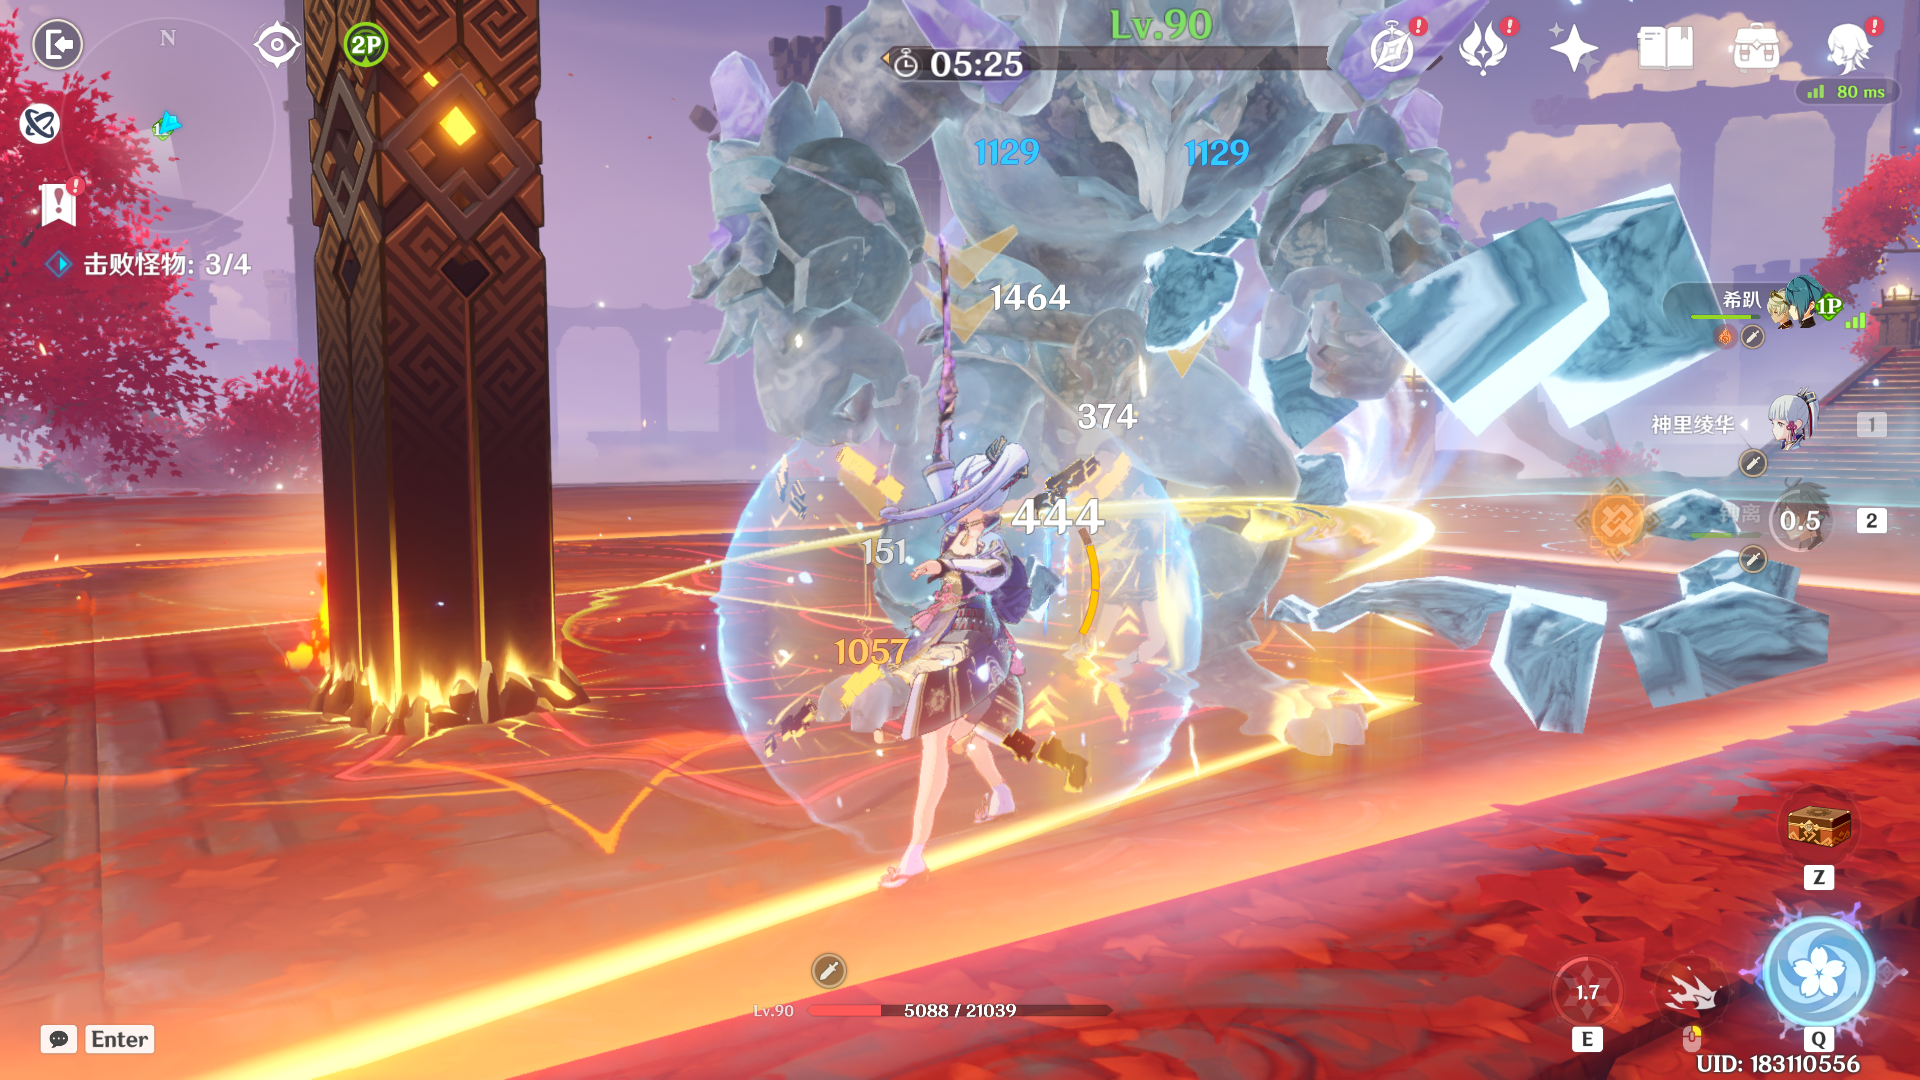character: (798, 367, 1135, 905)
